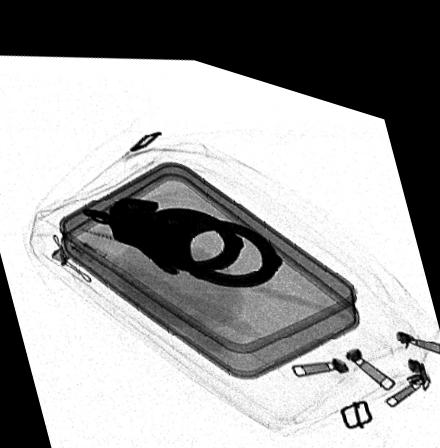HandCuffs: (78, 188, 282, 272)
